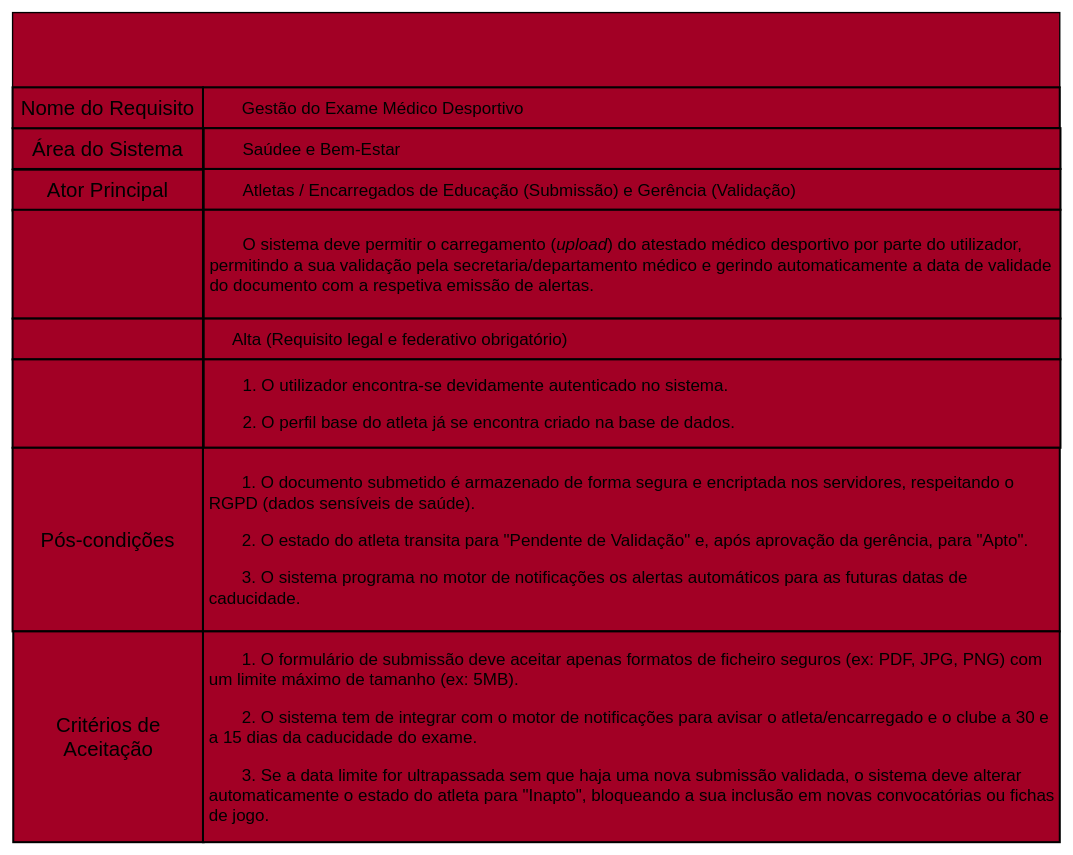
Some shapes in this 1073 by 855 pixel diagram are drawn without their labels. Each missing label, with the centre of its shape:
Descrição: point 107,263
Prioridade: point 107,338
Pré-condições: point 107,403
RF-11: point 536,50
